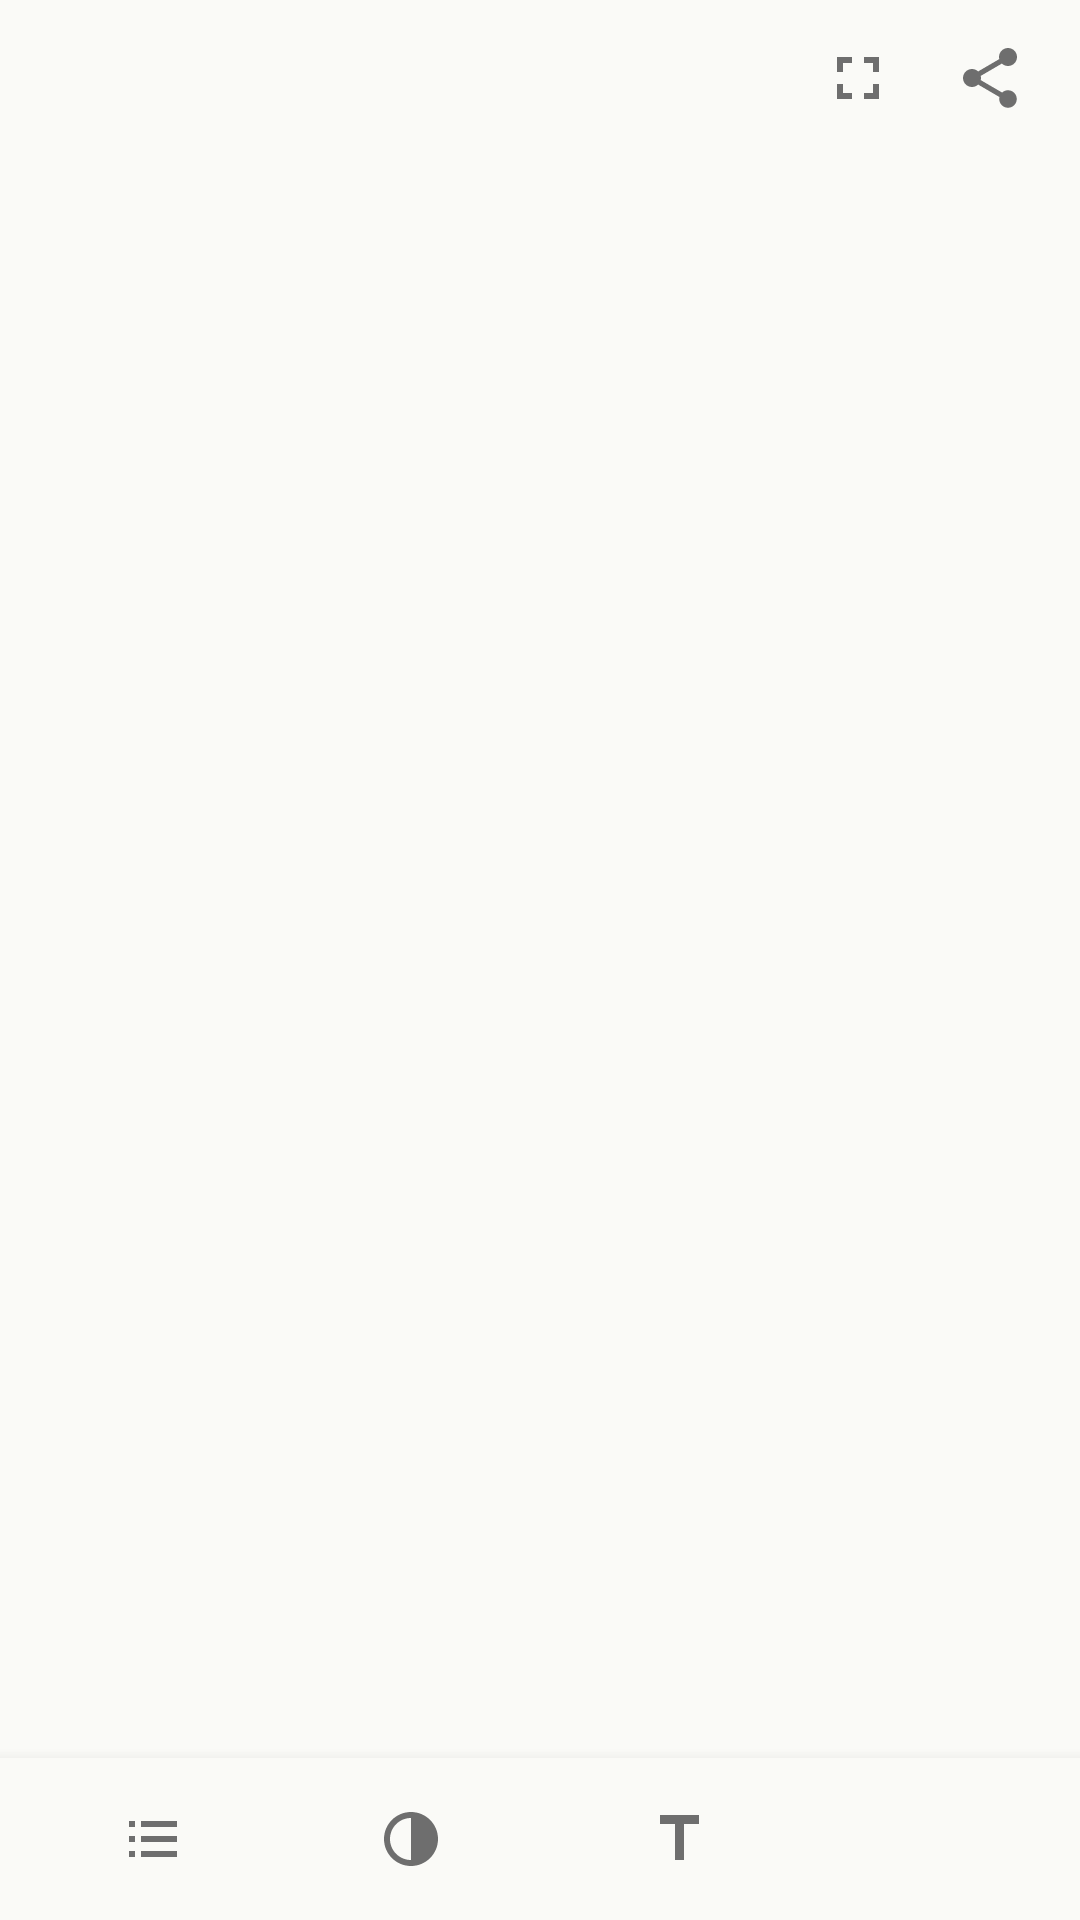

Screen size 1080px x 1920px. Icon name, then its center in pixels as [x,y]:
分享: [990,78]
大纲: [153,1839]
字号: [679,1837]
日/夜: [411,1839]
沉浸模式: [858,78]
